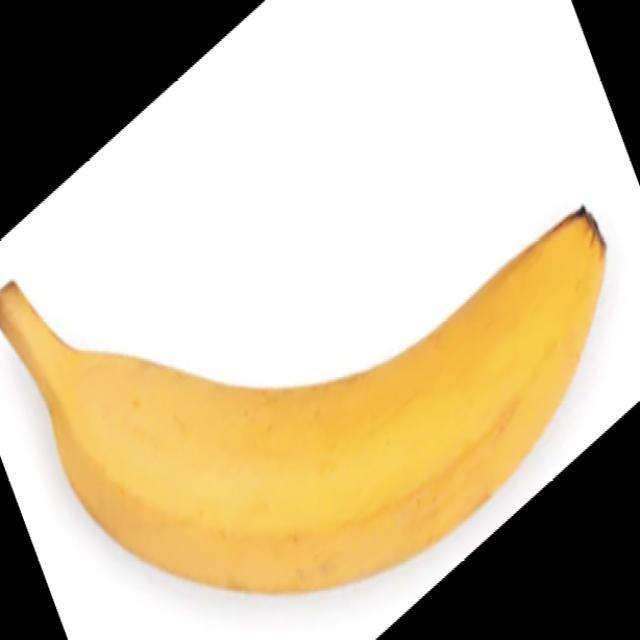Banana: (0, 203, 607, 594)
